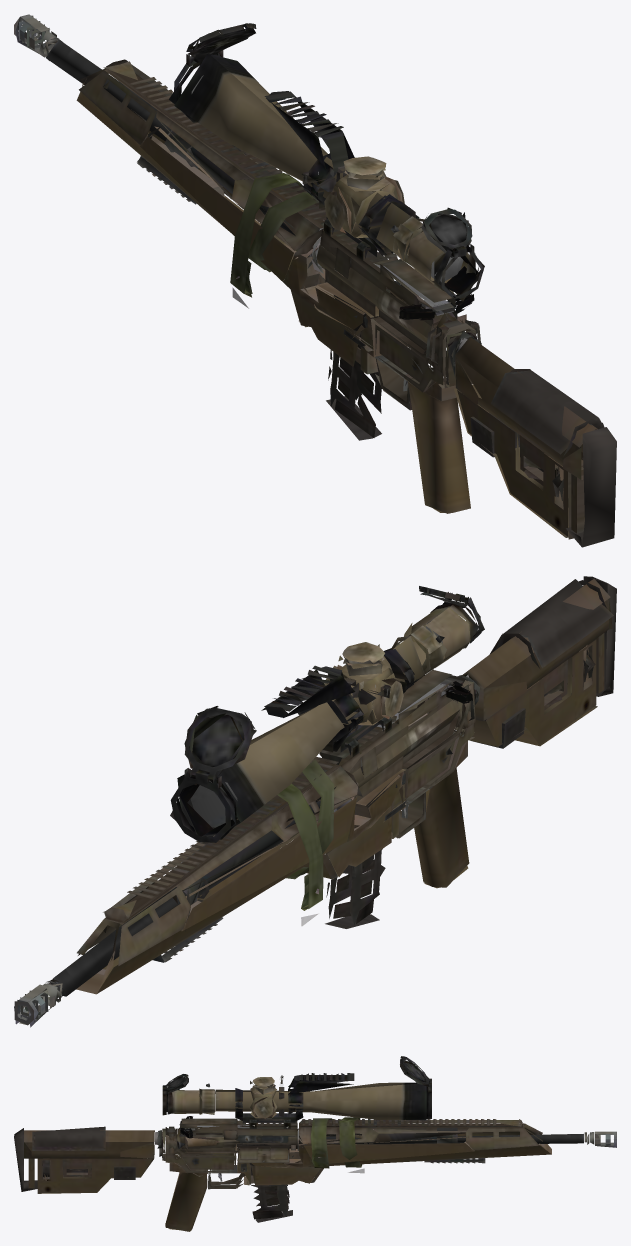
The model's file is arma_tp.glb.
3 renders of one model, top to bottom at view 1: azimuth 30°, elevation 25°; view 2: azimuth 150°, elevation 25°; view 3: azimuth 270°, elevation 25°, orthographic. The views are drawn at different scales.
Visible parts, largest first — view 1: cuerpo, carg; view 2: cuerpo, carg; view 3: cuerpo, carg.
Part boxes in pixels (x1,y1,x2,y2): cuerpo: (14,14,616,547); carg: (326,348,381,440); cuerpo: (14,576,616,1027); carg: (325,820,396,928); cuerpo: (14,1056,616,1231); carg: (244,1176,292,1222).
Size of the model in its own units: 0.1065 by 0.3721 by 1.2.
Materials: 4 (2 with a texture image).
